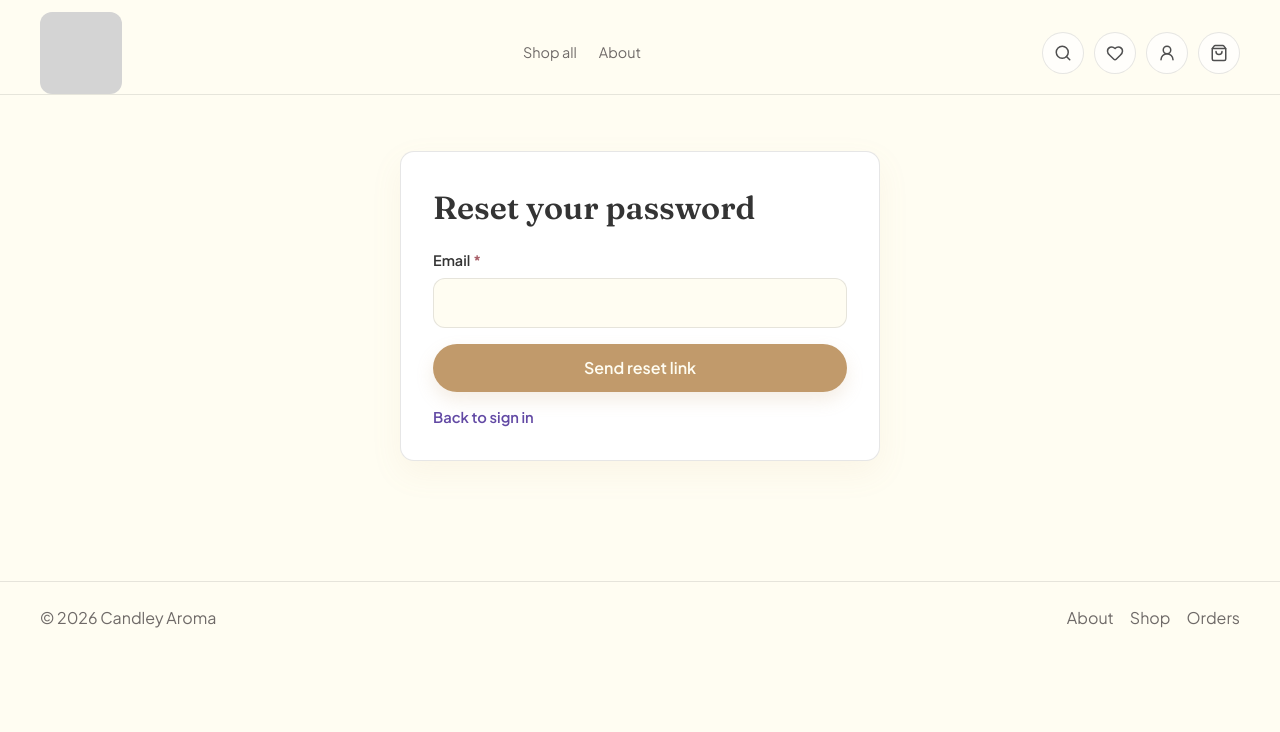
it: registration and password reset › shows the same confirmation for forgot-password regardless of account existence
Type "someone@example.test" into the field labelled "Email*".
click(640, 303); type("someone@example.test")  # box [433,278,847,328]
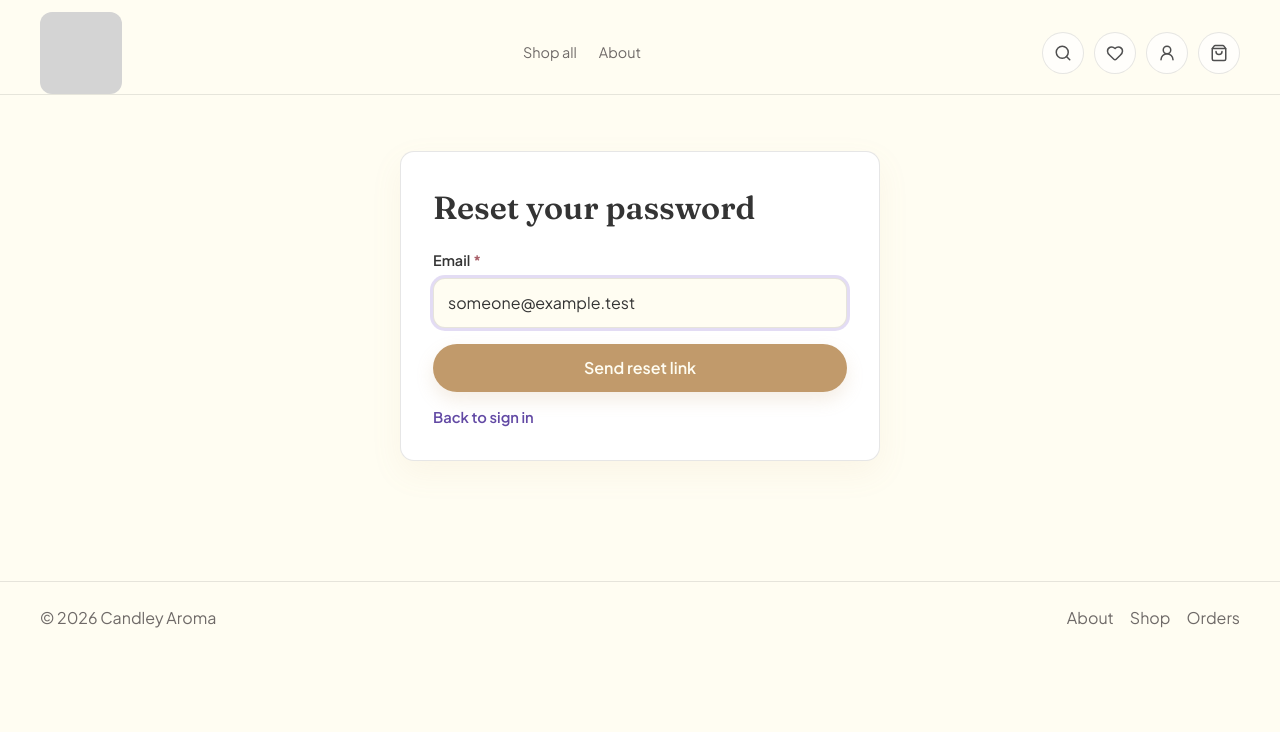
Click the button "Send reset link".
click(640, 368)  # box [433,344,847,392]
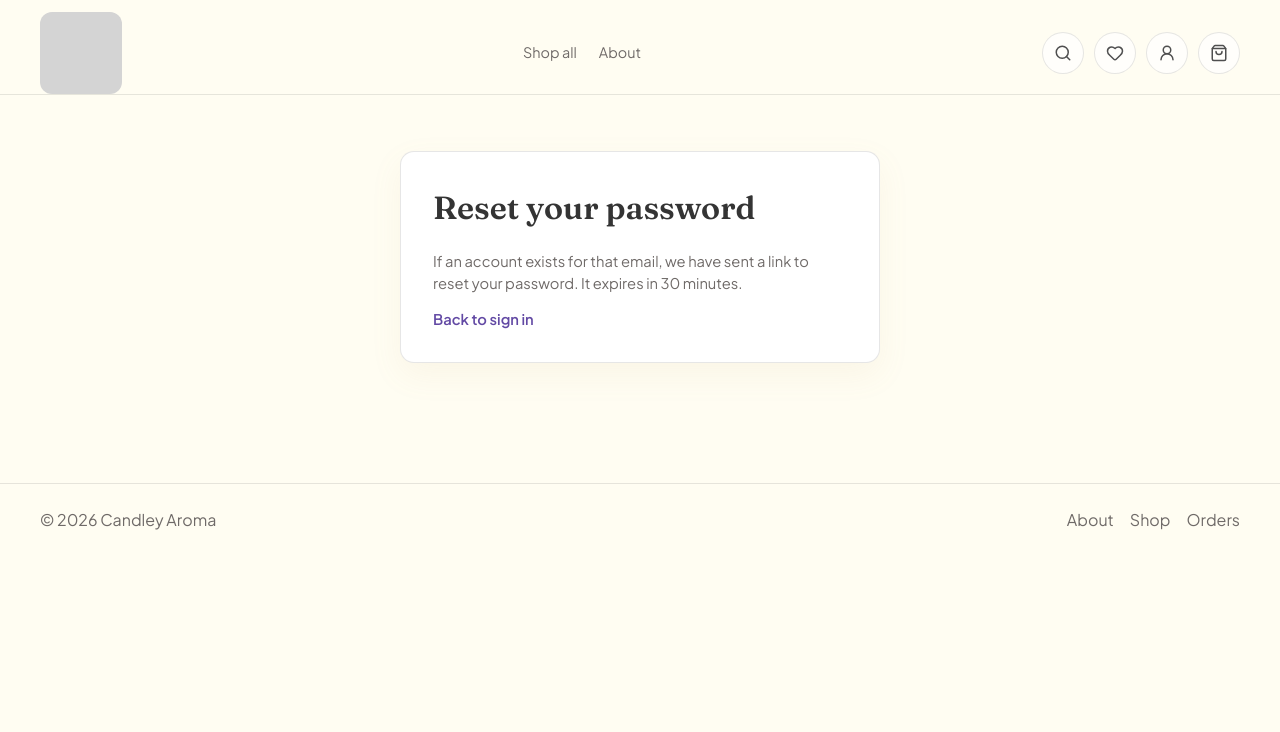
Now the text "If an account exists" is shown, box [433,252,809,292]
